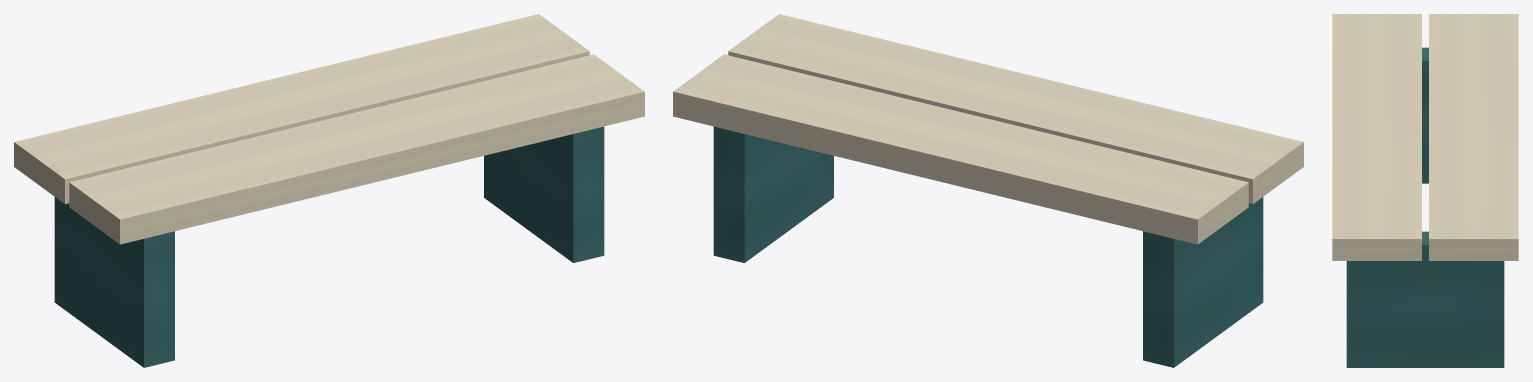
File: atlas100-porcelain-util03.lod1.glb
The picture shows the model from 3 angles, left to right: view 1: azimuth 30°, elevation 25°; view 2: azimuth 150°, elevation 25°; view 3: azimuth 270°, elevation 25°; orthographic projection. The views are drawn at different scales.
Visible parts, largest first — view 1: atlas100-porcelain-util03:part-004, atlas100-porcelain-util03:part-002, atlas100-porcelain-util03:part-000, atlas100-porcelain-util03:part-001; view 2: atlas100-porcelain-util03:part-002, atlas100-porcelain-util03:part-004, atlas100-porcelain-util03:part-000, atlas100-porcelain-util03:part-001; view 3: atlas100-porcelain-util03:part-002, atlas100-porcelain-util03:part-004, atlas100-porcelain-util03:part-001, atlas100-porcelain-util03:part-000.
Part boxes in pixels (x1,y1,x2,y2): atlas100-porcelain-util03:part-004: (69,54,644,244); atlas100-porcelain-util03:part-002: (14,14,589,204); atlas100-porcelain-util03:part-000: (54,197,174,367); atlas100-porcelain-util03:part-001: (484,126,604,262); atlas100-porcelain-util03:part-002: (673,54,1248,244); atlas100-porcelain-util03:part-004: (728,14,1303,204); atlas100-porcelain-util03:part-000: (1143,197,1263,367); atlas100-porcelain-util03:part-001: (713,126,833,262); atlas100-porcelain-util03:part-002: (1429,14,1518,260); atlas100-porcelain-util03:part-004: (1332,14,1421,260); atlas100-porcelain-util03:part-001: (1346,231,1504,367); atlas100-porcelain-util03:part-000: (1422,47,1428,183).
Bounding box in the file's own units: 2.2 × 0.65 × 0.77.
Materials: 2 (2 with a texture image).
